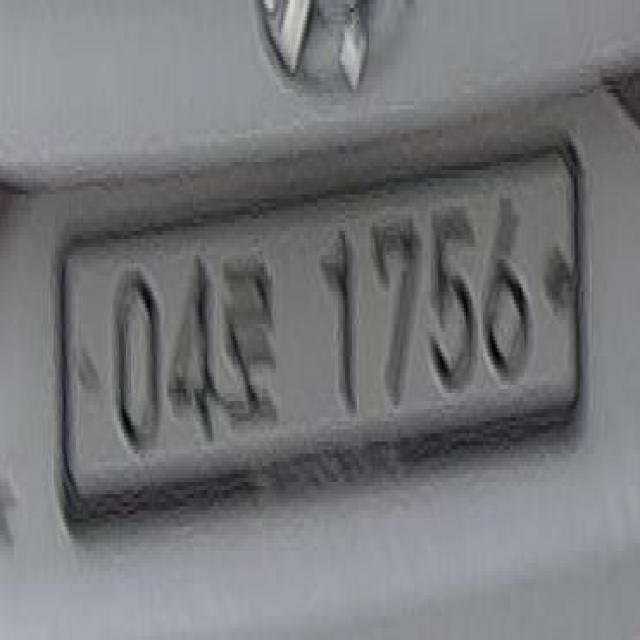illegal_plate: (55, 129, 593, 528)
